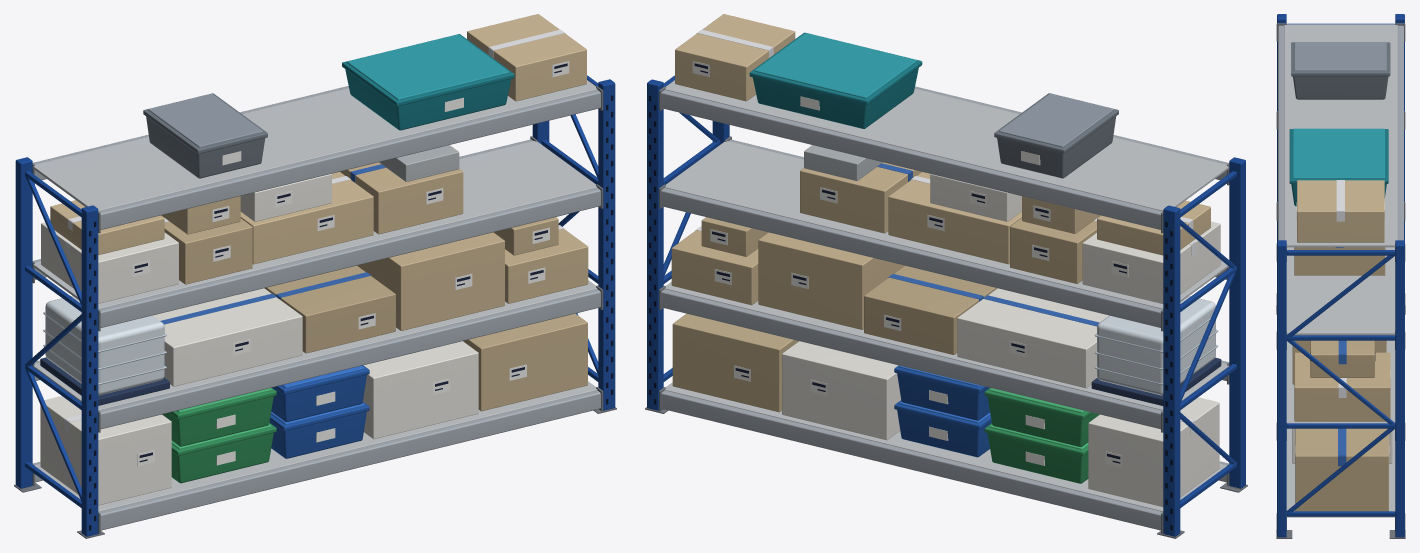
The model's file is rack_a.glb.
3 renders of one model, left to right at view 1: azimuth 30°, elevation 25°; view 2: azimuth 150°, elevation 25°; view 3: azimuth 270°, elevation 25°, orthographic. The views are drawn at different scales.
Visible parts, largest first — view 1: rack_a; view 2: rack_a; view 3: rack_a.
Part boxes in pixels (left/top/right/bottom): rack_a: left=14, top=14, right=616, bottom=538; rack_a: left=645, top=14, right=1247, bottom=538; rack_a: left=1276, top=14, right=1405, bottom=538.
Size of the model in its own units: 3.4 by 2.18 by 0.8.
